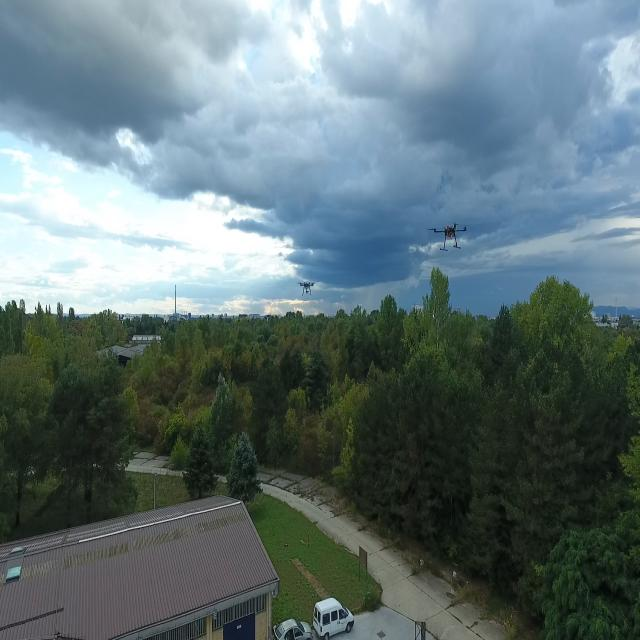UAV: (425, 219, 474, 256), (284, 276, 330, 302)
